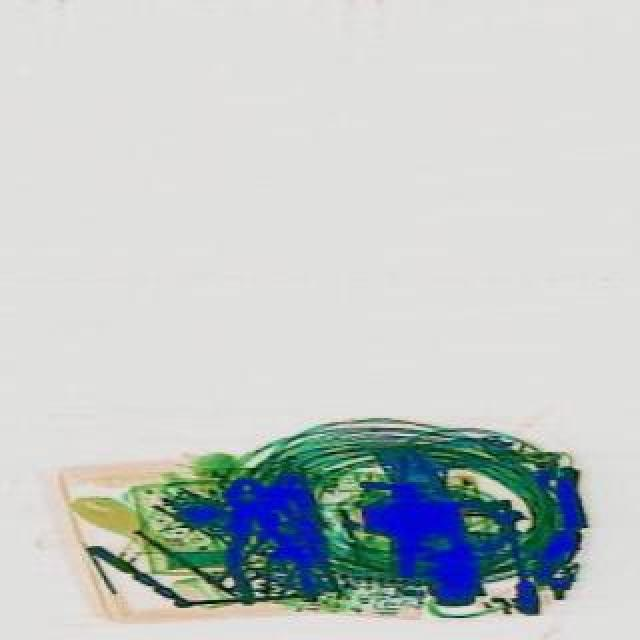wrench: (202, 468, 314, 620)
